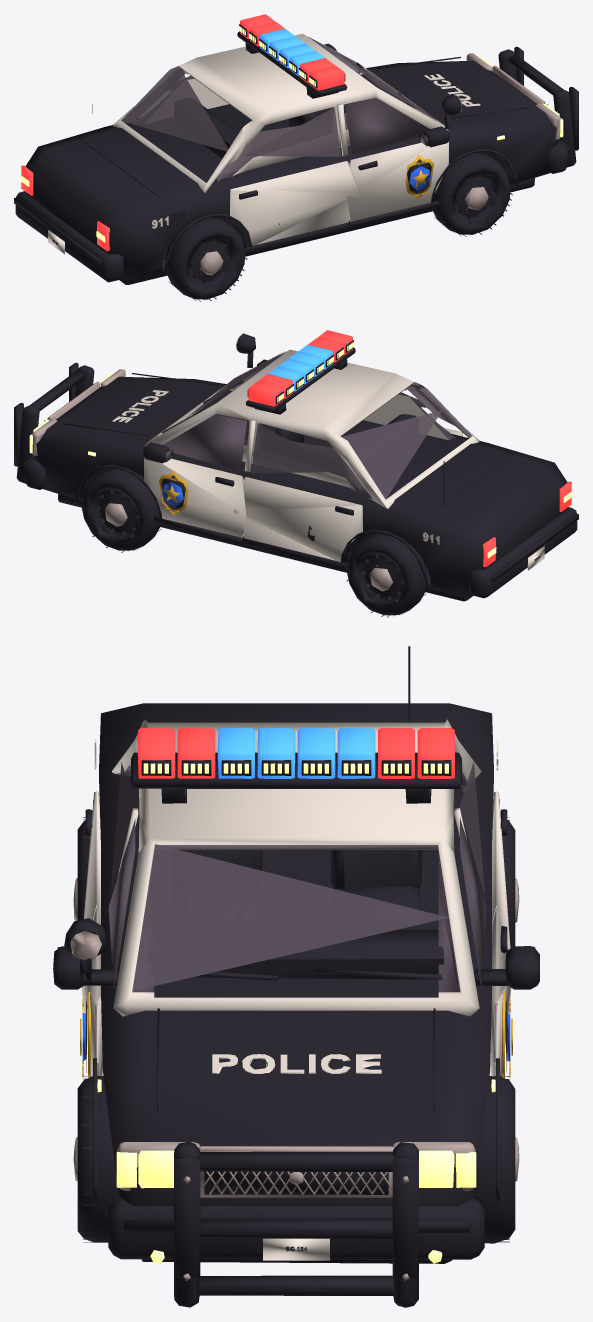
3 views of the same model, one above another, from view 1: azimuth 30°, elevation 25°; view 2: azimuth 150°, elevation 25°; view 3: azimuth 270°, elevation 25° (orthographic). The views are drawn at different scales.
Visible parts, largest first — view 1: body_pal_uiDark, body_pal_picketWhite, doorRearL_pal_picketWhite, doorL_pal_picketWhite, wheelRL_pal_uiDark, wheelFL_pal_uiDark, body_pal_asphalt, doorL_pal_asphalt, doorRearL_pal_asphalt, sirenL_emi_sirenRed, doorL_pal_uiDark, sirenR_emi_policeBlue (+8 smaller); view 2: body_pal_uiDark, body_pal_picketWhite, doorRearR_pal_picketWhite, doorR_pal_picketWhite, wheelRR_pal_uiDark, wheelFR_pal_uiDark, body_pal_asphalt, doorR_pal_asphalt, doorRearR_pal_asphalt, sirenL_emi_sirenRed, doorR_pal_uiDark, sirenR_emi_policeBlue (+8 smaller); view 3: body_pal_uiDark, body_pal_picketWhite, body_pal_asphalt, lightbar_pal_uiDark, sirenR_emi_policeBlue, sirenL_emi_sirenRed, body_pal_sidewalk, wheelFR_pal_uiDark, wheelFL_pal_uiDark, lightsFront_emi_windowGlow, doorR_pal_uiDark, doorL_pal_asphalt (+13 smaller).
Part boxes in pixels (bbox=[...]): body_pal_uiDark: bbox=[14, 46, 578, 284]; body_pal_picketWhite: bbox=[48, 33, 480, 254]; doorRearL_pal_picketWhite: bbox=[230, 161, 359, 245]; doorL_pal_picketWhite: bbox=[347, 141, 448, 222]; wheelRL_pal_uiDark: bbox=[164, 217, 247, 301]; wheelFL_pal_uiDark: bbox=[432, 152, 512, 236]; body_pal_asphalt: bbox=[121, 49, 439, 151]; doorL_pal_asphalt: bbox=[345, 98, 429, 154]; doorRearL_pal_asphalt: bbox=[244, 107, 340, 156]; sirenL_emi_sirenRed: bbox=[240, 14, 344, 90]; doorL_pal_uiDark: bbox=[350, 126, 449, 227]; sirenR_emi_policeBlue: bbox=[259, 29, 324, 75]; body_pal_uiDark: bbox=[14, 362, 578, 601]; body_pal_picketWhite: bbox=[112, 349, 544, 570]; doorRearR_pal_picketWhite: bbox=[233, 477, 362, 561]; doorR_pal_picketWhite: bbox=[144, 457, 245, 537]; wheelRR_pal_uiDark: bbox=[345, 533, 429, 617]; wheelFR_pal_uiDark: bbox=[80, 467, 162, 552]; body_pal_asphalt: bbox=[184, 351, 442, 499]; doorR_pal_asphalt: bbox=[163, 414, 246, 470]; doorRearR_pal_asphalt: bbox=[251, 423, 348, 472]; sirenL_emi_sirenRed: bbox=[248, 330, 352, 406]; doorR_pal_uiDark: bbox=[143, 442, 242, 543]; sirenR_emi_policeBlue: bbox=[268, 345, 333, 391]; body_pal_uiDark: bbox=[93, 646, 500, 1307]; body_pal_picketWhite: bbox=[94, 719, 498, 1260]; body_pal_asphalt: bbox=[132, 844, 448, 990]; lightbar_pal_uiDark: bbox=[131, 752, 461, 803]; sirenR_emi_policeBlue: bbox=[217, 728, 375, 778]; sirenL_emi_sirenRed: bbox=[137, 728, 454, 778]; body_pal_sidewalk: bbox=[117, 1142, 475, 1280]; wheelFR_pal_uiDark: bbox=[473, 1076, 515, 1243]; wheelFL_pal_uiDark: bbox=[77, 1076, 119, 1242]; lightsFront_emi_windowGlow: bbox=[97, 1079, 495, 1263]; doorR_pal_uiDark: bbox=[474, 926, 539, 1072]; doorL_pal_asphalt: bbox=[57, 819, 135, 989].
Bounding box in the file's own units: 5.44 × 1.93 × 2.31.
